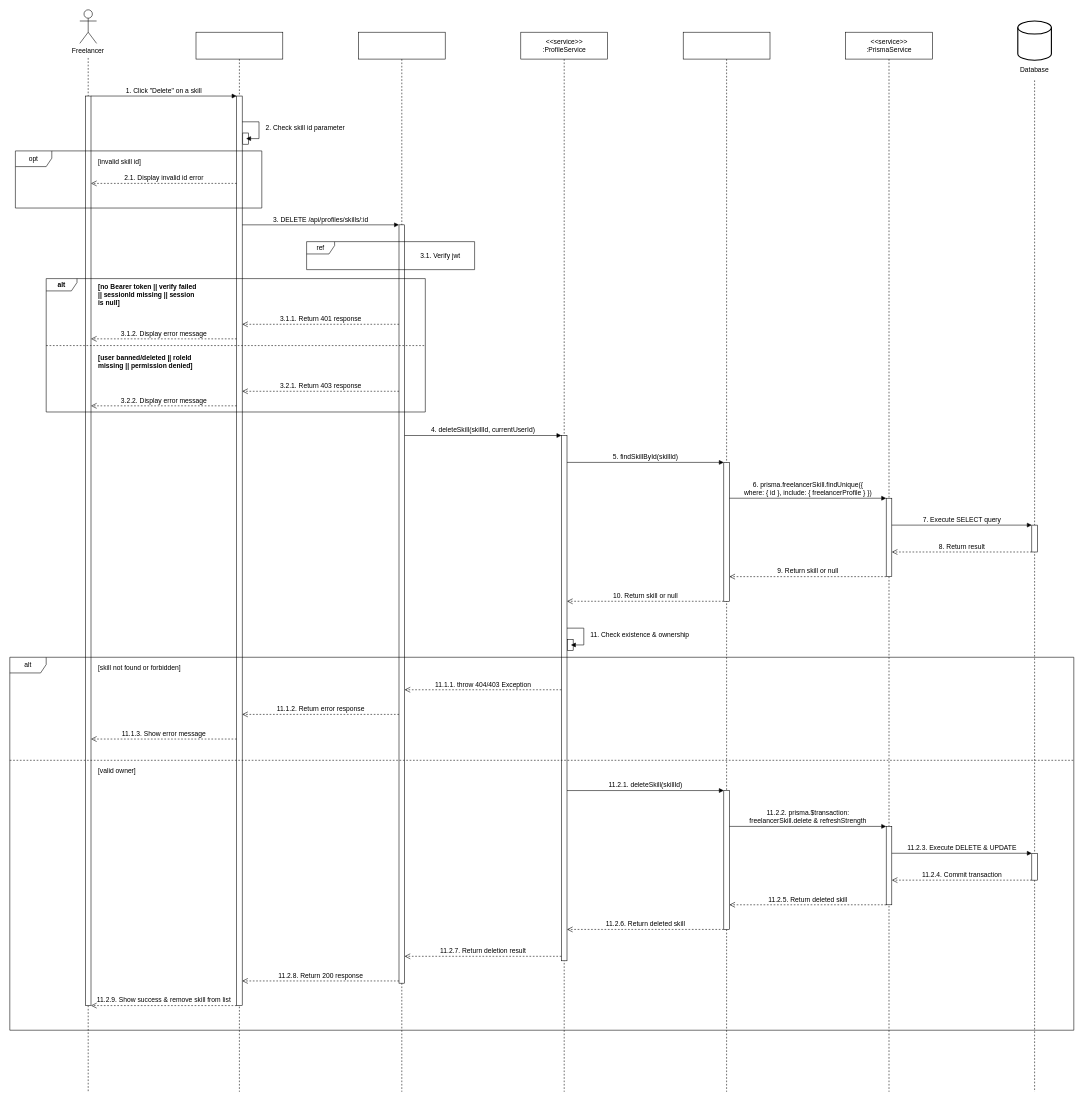
Image size: 1084x1103. Some labels were removed from this diagram. Each missing label, with the box of its shape:
<<boundary>> ProfileSkillView: (195, 32, 283, 1092)
<<controller>> :ProfileController: (358, 32, 445, 1092)
<<repository>> :ProfileRepository: (683, 32, 770, 1092)
